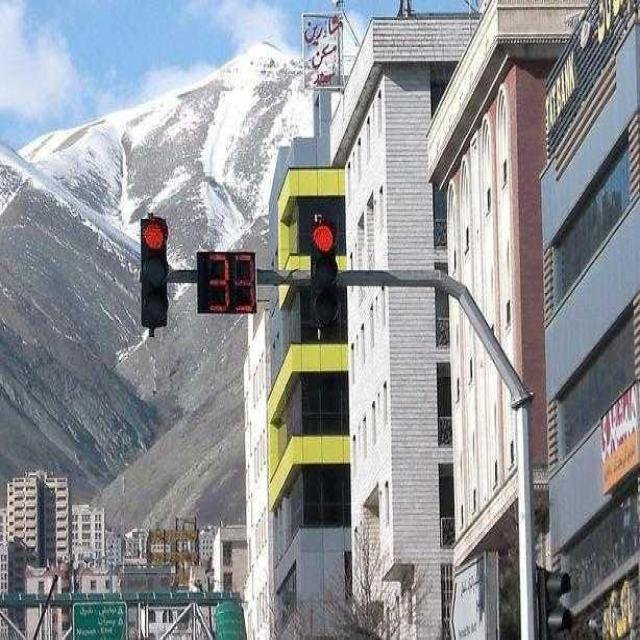Traffic Light -Red-: (137, 212, 173, 330), (308, 216, 342, 333)
